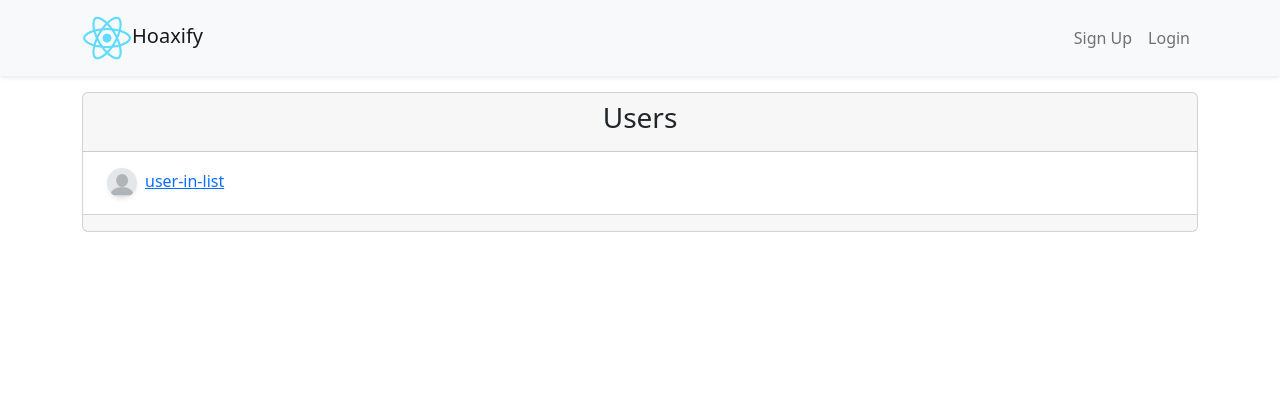
Test case: Routing › navigates to user page when clicking the username on user list
This screenshot has width=1280, height=402.
Click the link "user-in-list" at (162, 181), box [99,170,224,192]
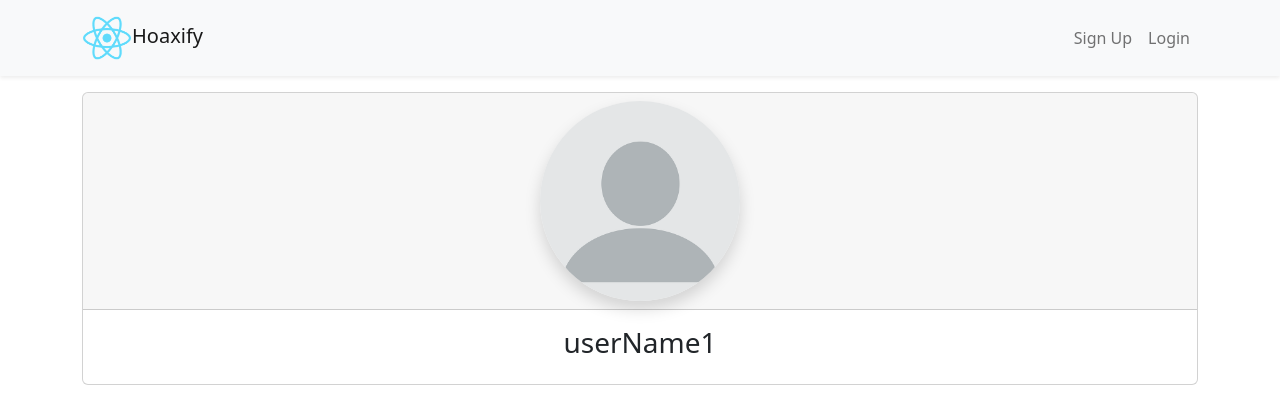
Now the element with test id "user-page" is shown
